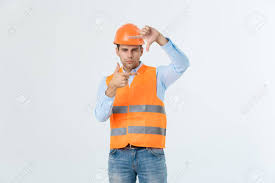Person_wearing_helmet: (114, 22, 147, 55)
